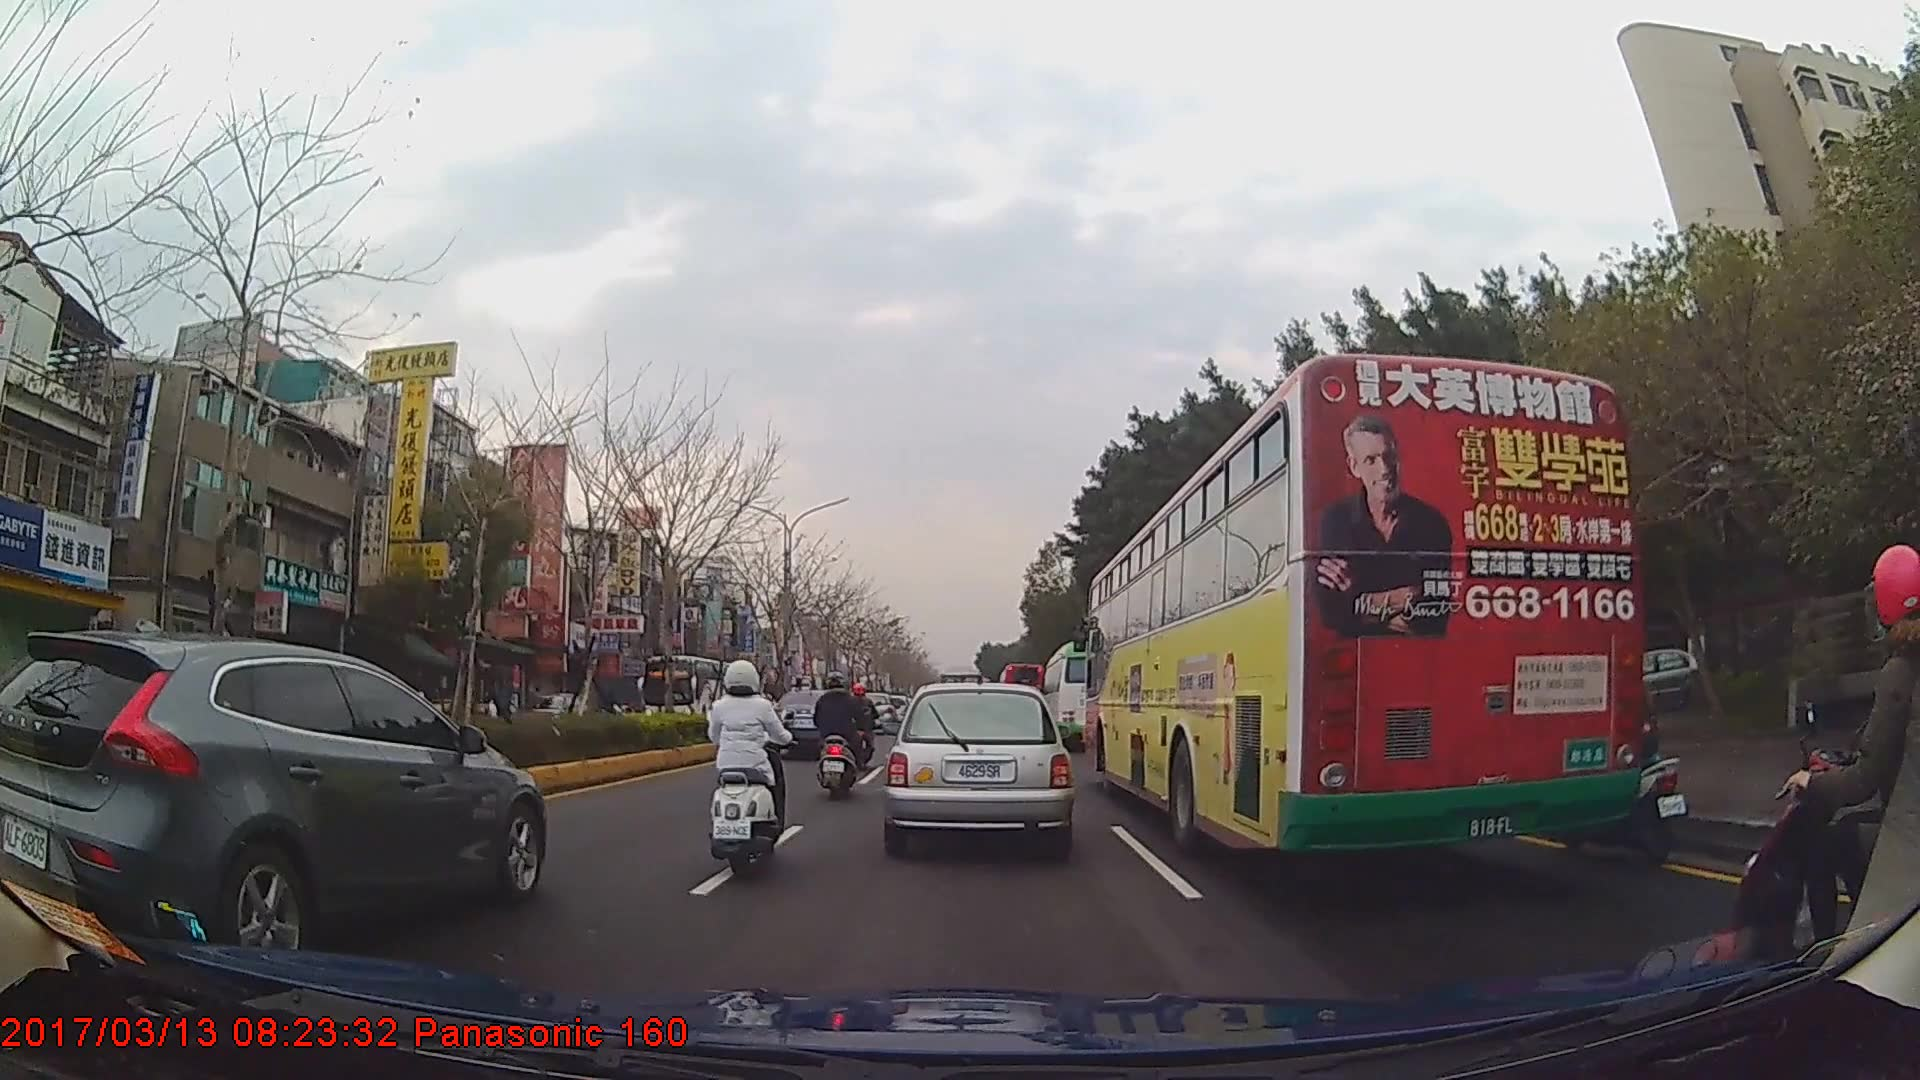rider: (1732, 542, 1920, 1005), (1565, 636, 1692, 873), (706, 655, 795, 874), (811, 674, 865, 798), (845, 680, 880, 770)
vehicle: (1087, 349, 1646, 863), (0, 631, 545, 970), (886, 680, 1071, 856), (1040, 641, 1125, 747), (773, 690, 870, 763), (638, 654, 731, 730), (998, 657, 1046, 728), (519, 690, 592, 734)
